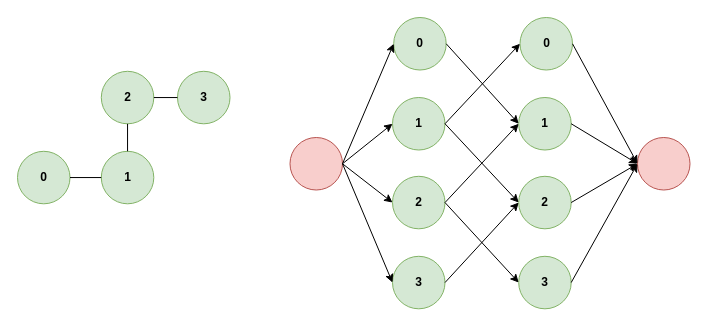
This 708x327 diagram has some shape labels left out. Each missing label, with the centre of its shape:
"Sink" belongs at [663,163].
"Source" belongs at [315,163].
